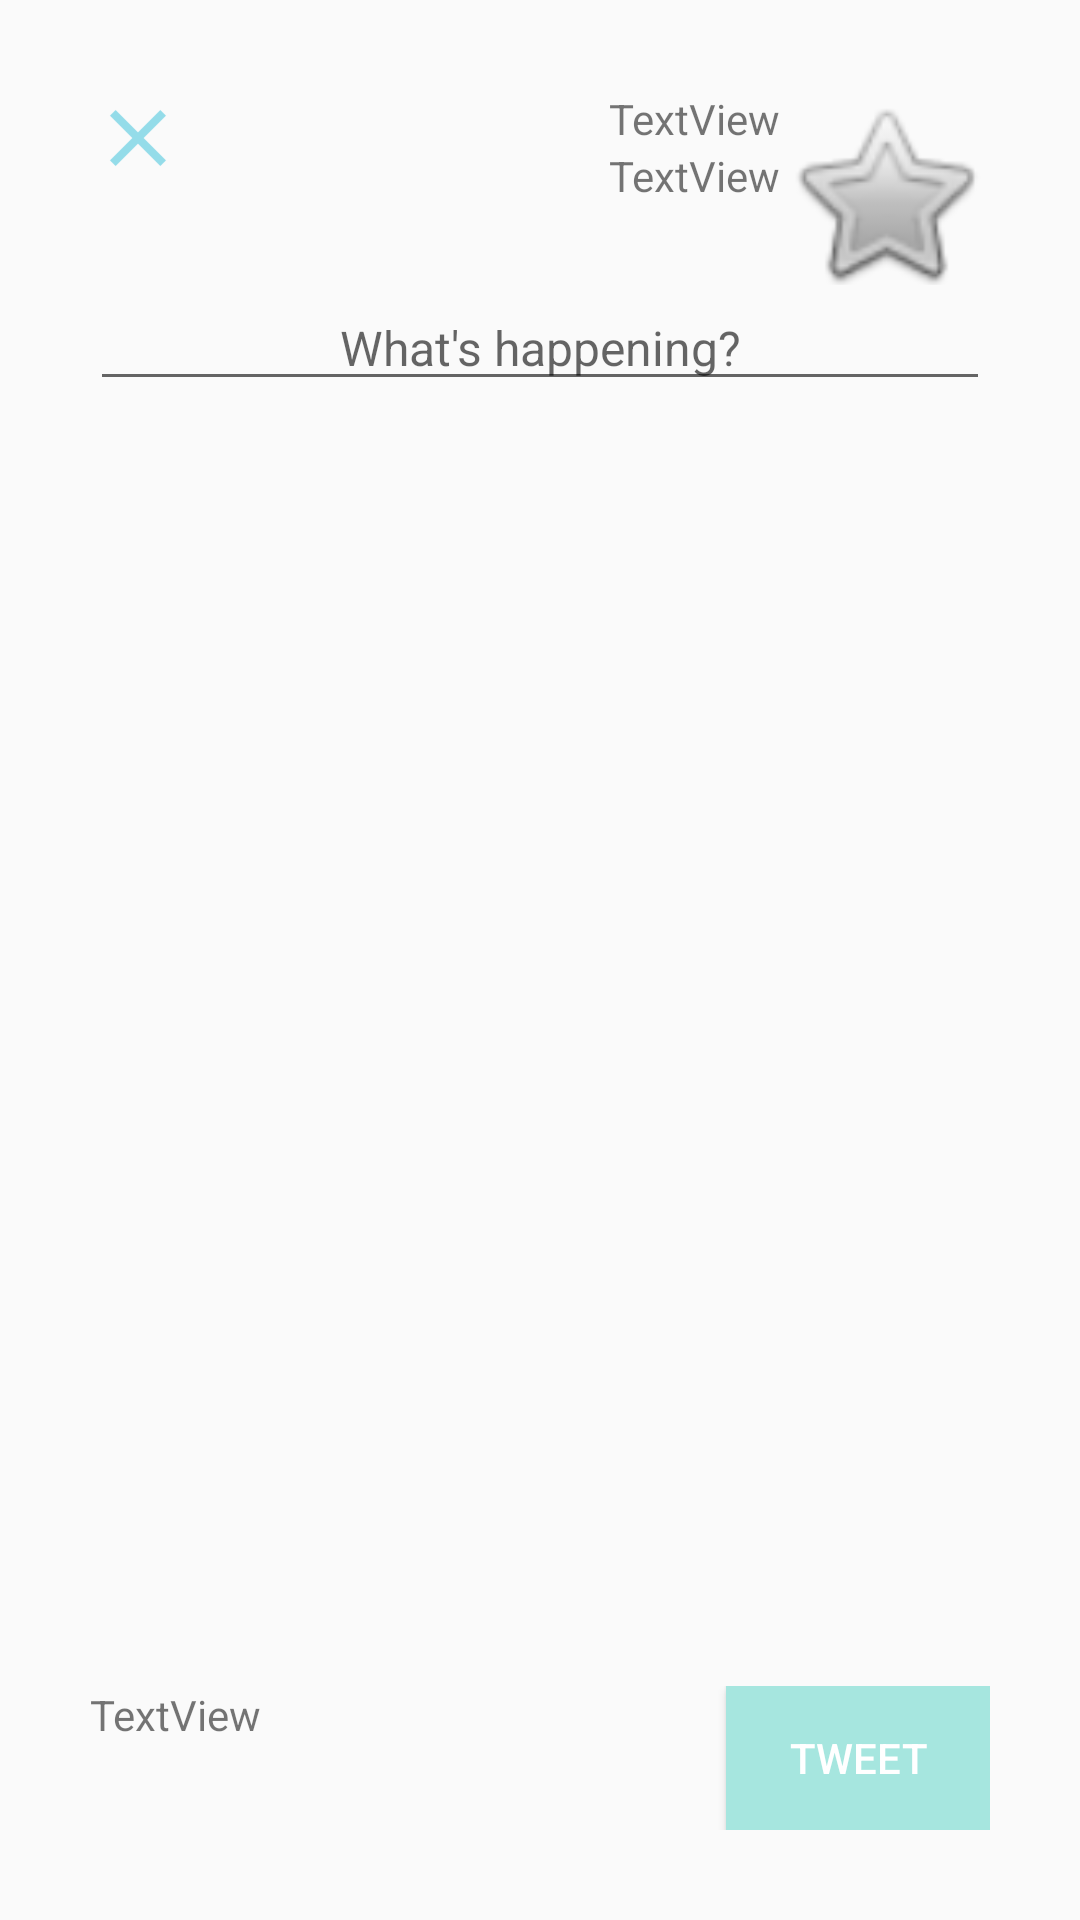

Point at icon controls on the screen. Image size 1080w x 1920h, points as point (x, y).
close: point (138, 138)
star: point (887, 196)
